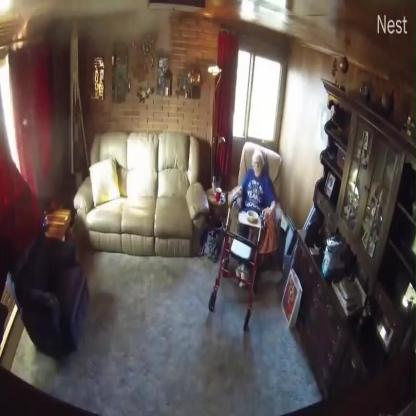fire: (11, 20, 31, 51)
